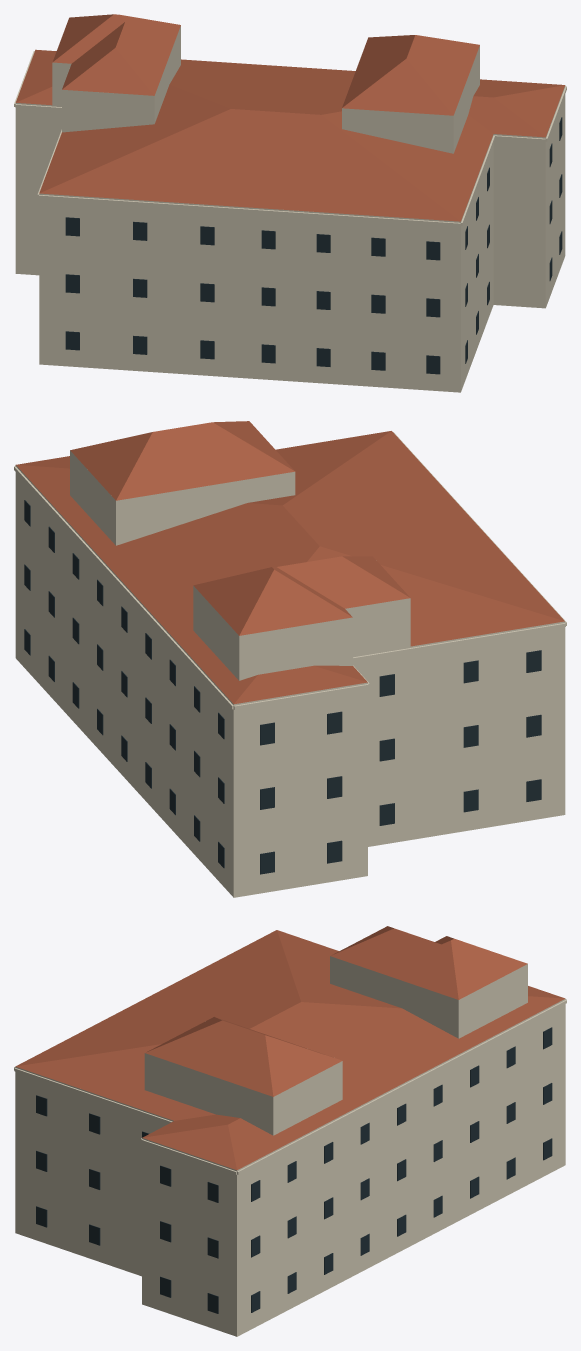
The model's file is borghese.glb.
3 renders of one model, top to bottom at view 1: azimuth 30°, elevation 25°; view 2: azimuth 150°, elevation 25°; view 3: azimuth 270°, elevation 25°, orthographic. The views are drawn at different scales.
Parts seen in each view (by area): view 1: primary-envelope, primary-roof, villa-roof, villa-raised-wing, window-rhythm, cornice; view 2: primary-envelope, primary-roof, villa-roof, villa-raised-wing, window-rhythm, cornice; view 3: primary-envelope, primary-roof, villa-roof, villa-raised-wing, window-rhythm, cornice.
Boxes of the visible parts, x1=… form: primary-envelope: x1=15, y1=85, x2=565, y2=392; primary-roof: x1=16, y1=49, x2=564, y2=221; villa-roof: x1=52, y1=14, x2=479, y2=115; villa-raised-wing: x1=52, y1=26, x2=479, y2=153; window-rhythm: x1=65, y1=117, x2=562, y2=374; cornice: x1=14, y1=51, x2=566, y2=226; primary-envelope: x1=15, y1=465, x2=565, y2=897; primary-roof: x1=16, y1=431, x2=564, y2=704; villa-roof: x1=70, y1=421, x2=410, y2=635; villa-raised-wing: x1=70, y1=450, x2=410, y2=680; window-rhythm: x1=24, y1=500, x2=541, y2=874; cornice: x1=14, y1=432, x2=566, y2=709; primary-envelope: x1=15, y1=999, x2=565, y2=1336; primary-roof: x1=15, y1=930, x2=565, y2=1169; villa-roof: x1=145, y1=926, x2=527, y2=1096; villa-raised-wing: x1=144, y1=956, x2=527, y2=1135; window-rhythm: x1=36, y1=1027, x2=552, y2=1313; cornice: x1=14, y1=999, x2=566, y2=1174.
Size of the model in its own units: 16 by 7.33 by 15.48.
